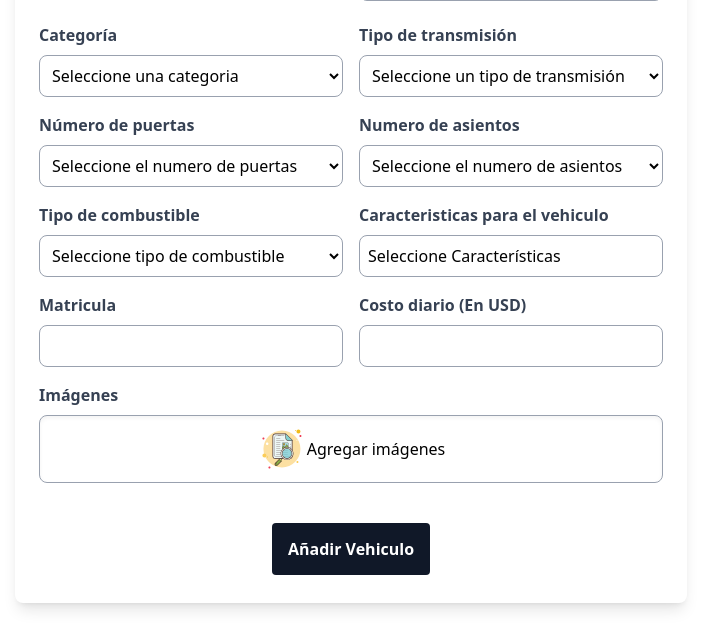
Debe mostrar mensaje de error si no se selecionan imagenes
(page scrolled)
Click the button "Añadir Vehiculo" at x=351, y=549, box [272, 523, 430, 575]
(page scrolled)
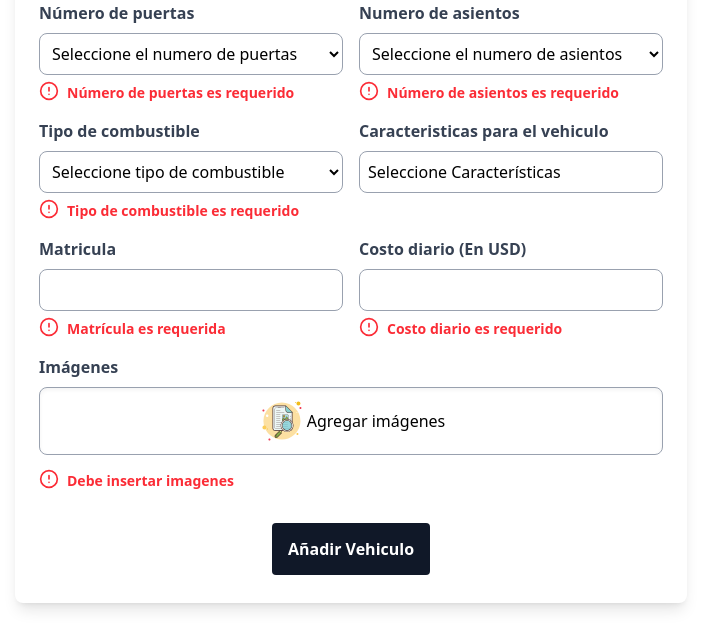
Expected: the text "Debe insertar imagenes" is shown, [67, 471, 234, 491]
